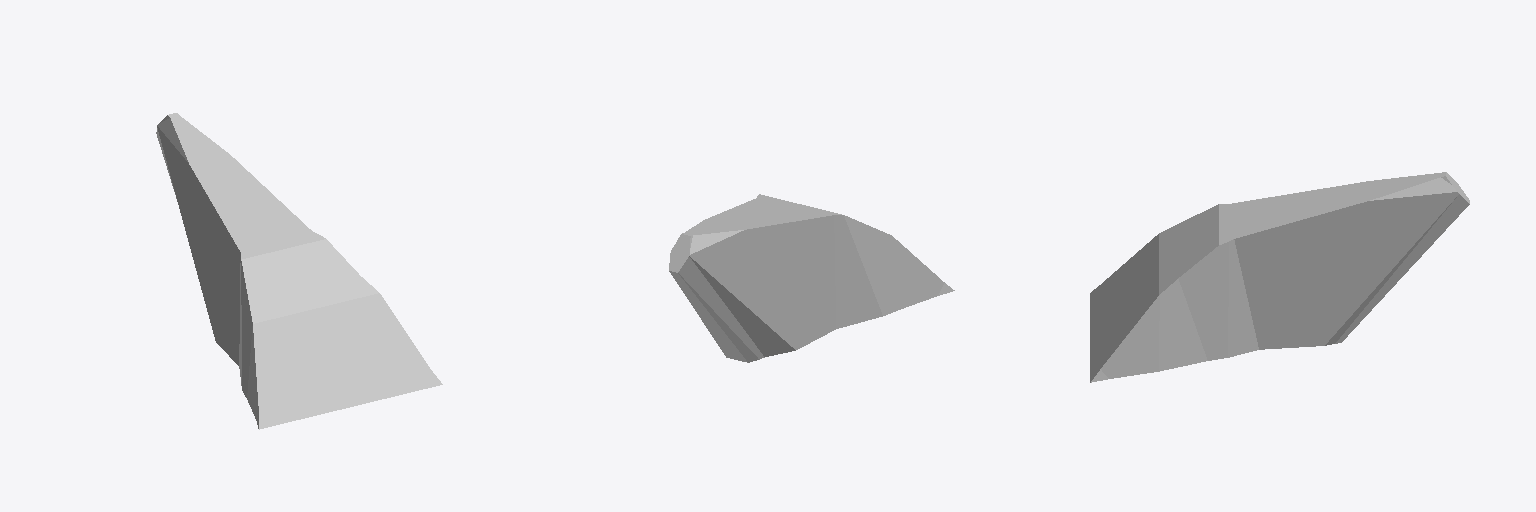
File: collisiontempshiphull5.obj
3 views of the same model, side by side, from view 1: azimuth 30°, elevation 25°; view 2: azimuth 150°, elevation 25°; view 3: azimuth 270°, elevation 25° (orthographic).
Parts seen in each view (by area): view 1: col.tempshiphull5Collision.000_Cube.011; view 2: col.tempshiphull5Collision.000_Cube.011; view 3: col.tempshiphull5Collision.000_Cube.011.
Part boxes in pixels (x1,y1,x2,y2): col.tempshiphull5Collision.000_Cube.011: (156,113,442,429); col.tempshiphull5Collision.000_Cube.011: (669,194,954,362); col.tempshiphull5Collision.000_Cube.011: (1090,172,1469,382).
Bounding box in the file's own units: 2.61 × 2.21 × 4.64.